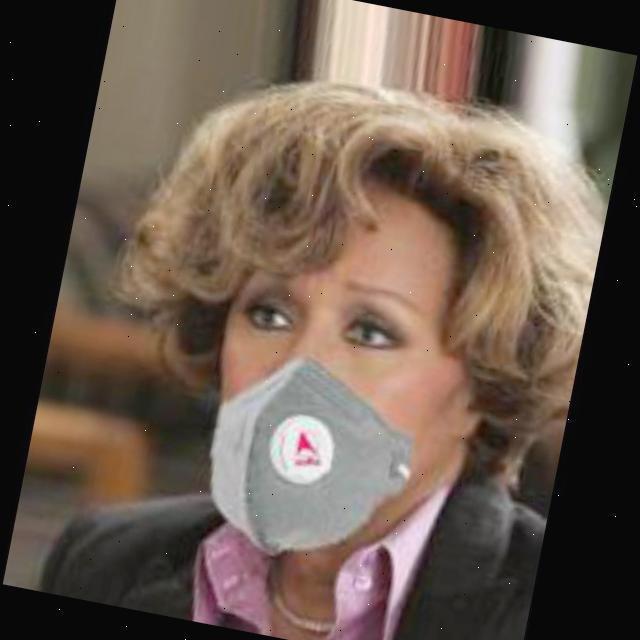suspicion: (142, 94, 564, 569)
